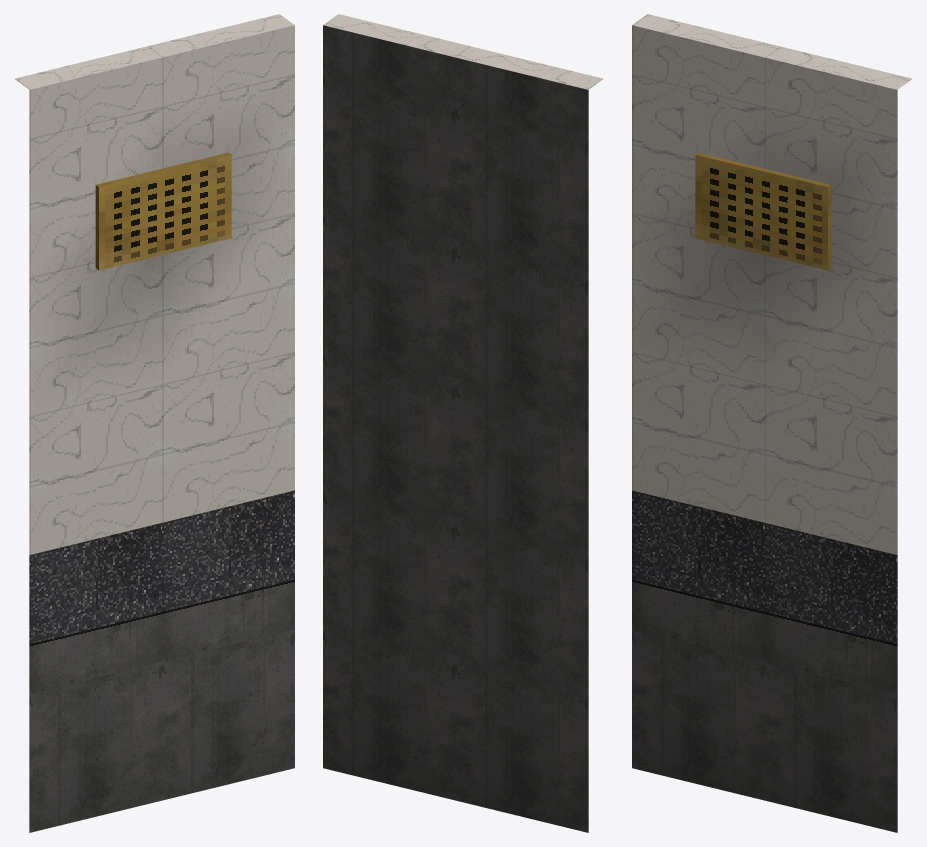
The model's file is track_wall_vent.glb.
3 views of the same model, side by side, from view 1: azimuth 30°, elevation 25°; view 2: azimuth 150°, elevation 25°; view 3: azimuth 330°, elevation 25° (orthographic).
Visible parts, largest first — view 1: track_wall_vent; view 2: track_wall_vent; view 3: track_wall_vent.
Boxes of the visible parts, box(x1,y1,x2,y2) form: track_wall_vent: box(14, 14, 294, 832); track_wall_vent: box(323, 14, 603, 832); track_wall_vent: box(632, 14, 912, 832).
Bounding box in the file's own units: 2 × 5.35 × 0.24.
2 materials, 2 textured.
